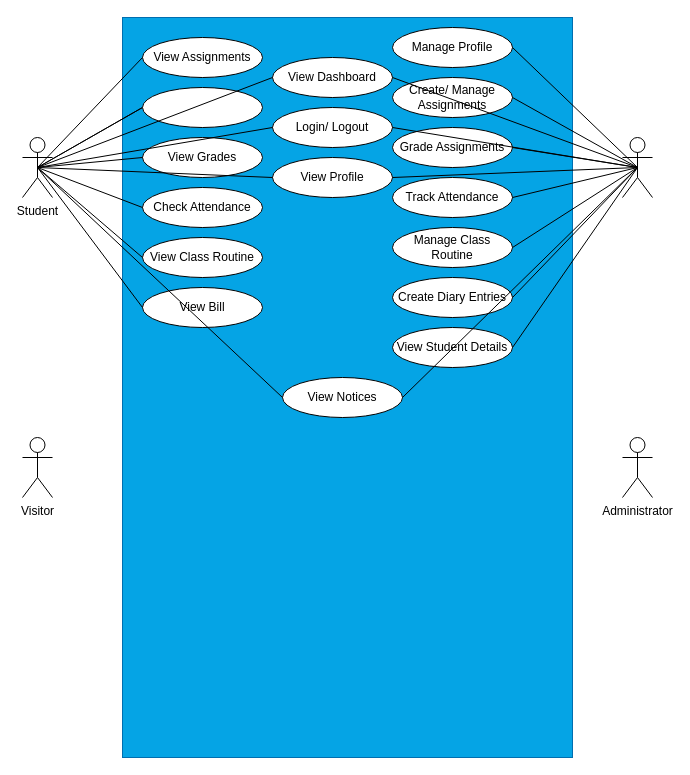
The diagram is 690 pixels wide and 775 high, and some of its shapes have lost their labels. The box of each missing label's shape, as (x1, y1, x2, y2) in pixels:
Submit Assignments: (142, 86, 262, 128)
Teacher: (622, 136, 652, 198)
